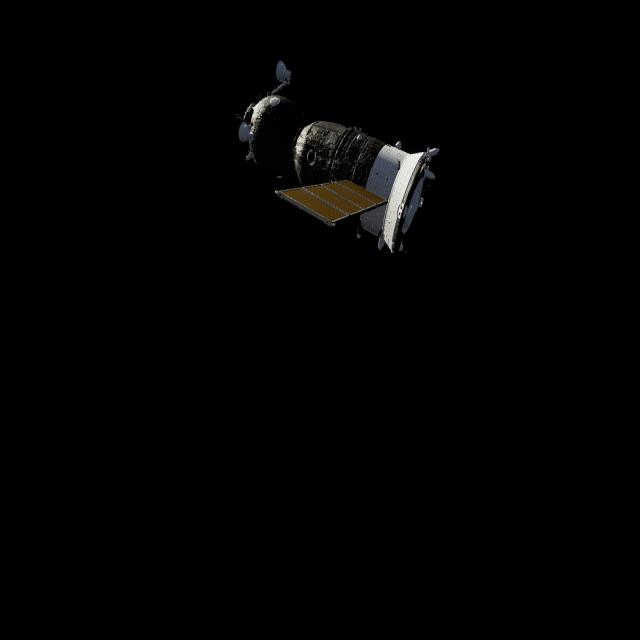Satellites revolving around earth: (235, 59, 441, 257)
